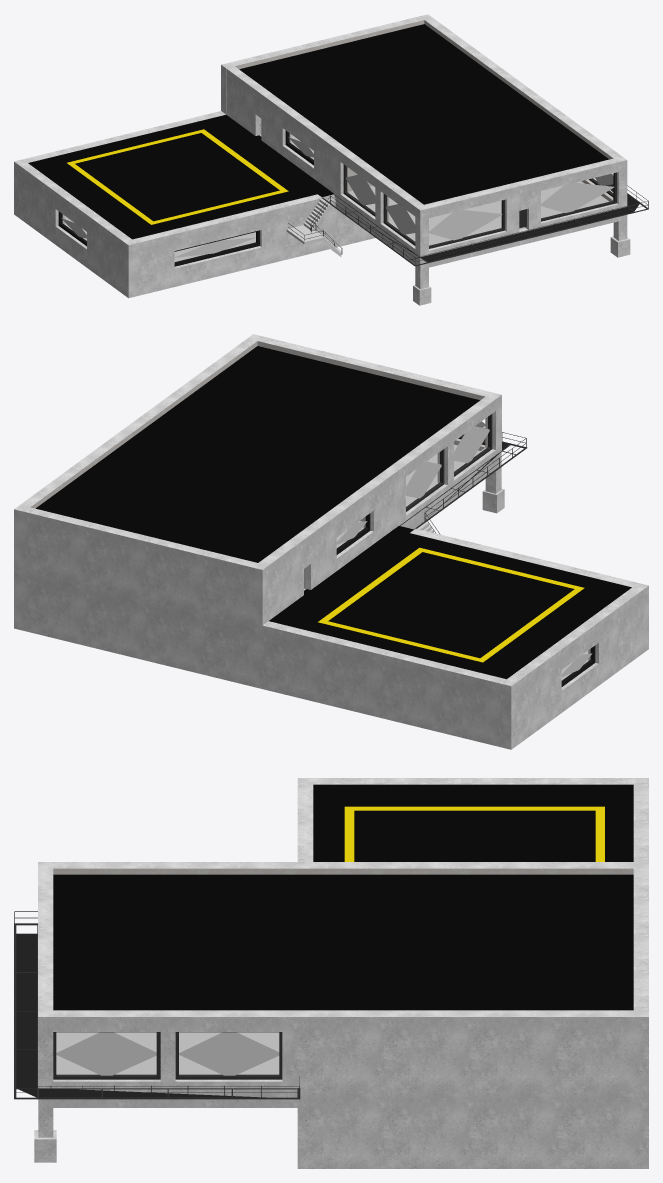
File: military-hq.walls-v1.lod1.glb
3 renders of one model, top to bottom at view 1: azimuth 30°, elevation 25°; view 2: azimuth 150°, elevation 25°; view 3: azimuth 270°, elevation 25°, orthographic. The views are drawn at different scales.
Visible parts, largest first — view 1: Walls_Floor_2_0, Walls_Outer_Walls_0, Railing_Railing_0, Walls_Inner_walls_0; view 2: Walls_Floor_2_0, Walls_Outer_Walls_0, Walls_Inner_walls_0, Railing_Railing_0; view 3: Walls_Floor_2_0, Walls_Outer_Walls_0, Railing_Railing_0, Walls_Inner_walls_0.
Boxes of the visible parts, x1,y1,x2,y2 form: Walls_Floor_2_0: (28,24,638,266); Walls_Outer_Walls_0: (14,14,630,305); Railing_Railing_0: (288,164,648,266); Walls_Inner_walls_0: (34,20,613,241); Walls_Floor_2_0: (36,346,631,686); Walls_Outer_Walls_0: (14,334,648,749); Walls_Inner_walls_0: (30,341,631,680); Railing_Railing_0: (399,414,527,534); Walls_Floor_2_0: (16,784,633,1097); Walls_Outer_Walls_0: (34,778,648,1168); Railing_Railing_0: (14,911,300,1099); Walls_Inner_walls_0: (53,868,633,874).
Bounding box in the file's own units: 40.21 × 8.91 × 33.7.
6 materials, 3 textured.
